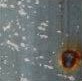Corrosion: (57, 47, 82, 73)
